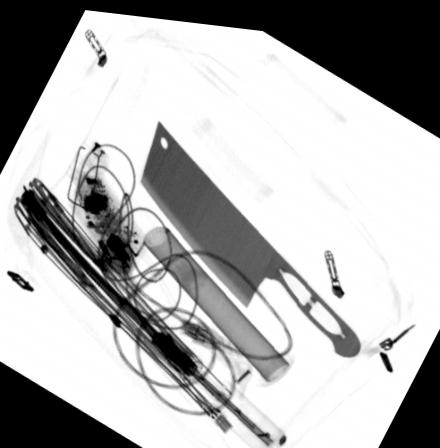Knife: (139, 115, 361, 350)
